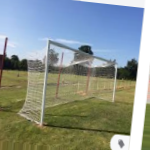goals: (16, 38, 119, 128)
